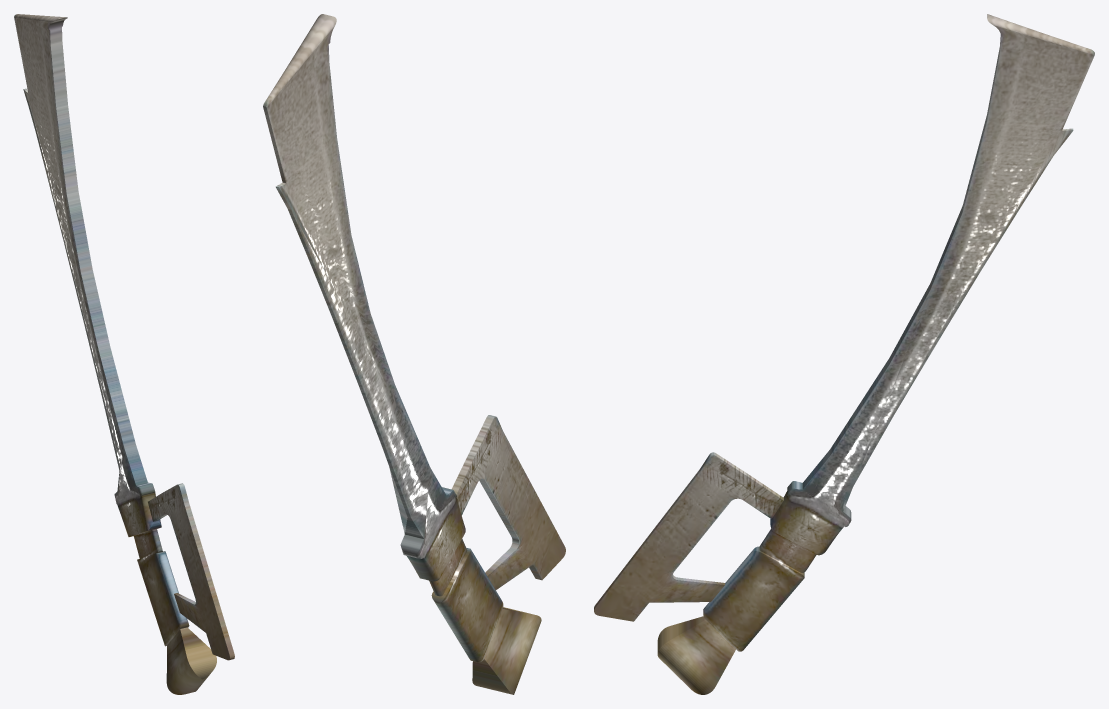
Rendered from Indian Ancient Sword.fbx.
The picture shows the model from 3 angles, left to right: view 1: azimuth 30°, elevation 25°; view 2: azimuth 150°, elevation 25°; view 3: azimuth 270°, elevation 25°; orthographic projection. The views are drawn at different scales.
Visible parts, largest first — view 1: Plane; view 2: Plane; view 3: Plane.
Part boxes in pixels (x1,y1,x2,y2): Plane: [14, 14, 234, 694]; Plane: [263, 14, 565, 694]; Plane: [594, 14, 1094, 694].
Size of the model in its own units: 5.87 by 119 by 80.2.
Materials: 1 (1 with a texture image).
